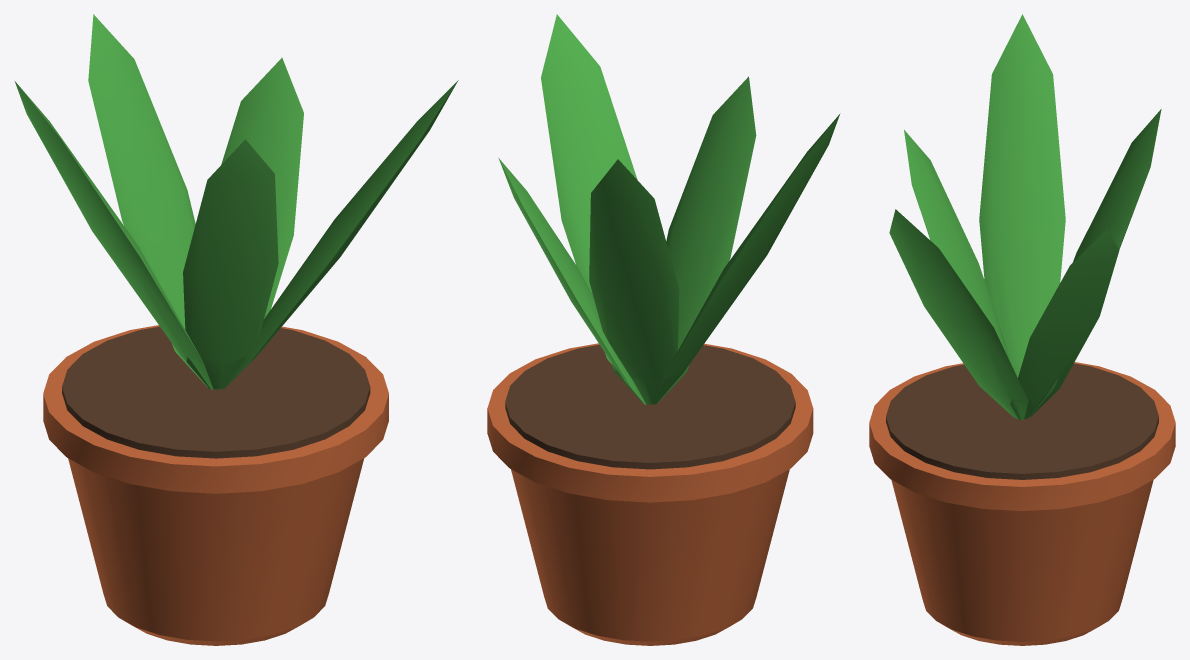
Rendered from potted_plant.glb.
The picture shows the model from 3 angles, left to right: view 1: azimuth 30°, elevation 25°; view 2: azimuth 150°, elevation 25°; view 3: azimuth 270°, elevation 25°; orthographic projection. The views are drawn at different scales.
Visible parts, largest first — view 1: potted_plant; view 2: potted_plant; view 3: potted_plant.
Part boxes in pixels (bbox=[...]): potted_plant: bbox=[14, 14, 458, 645]; potted_plant: bbox=[487, 14, 840, 645]; potted_plant: bbox=[869, 14, 1175, 645].
Size of the model in its own units: 0.0612 by 0.09 by 0.0492.
